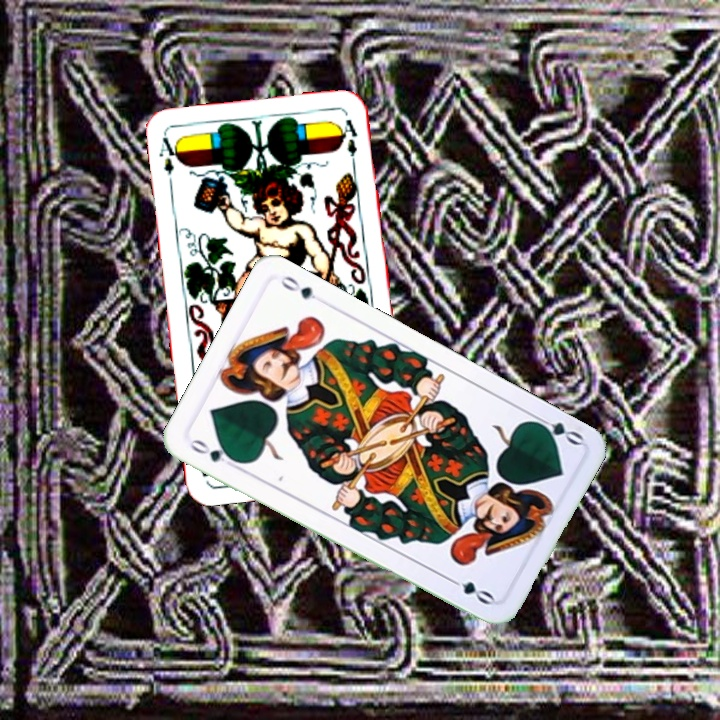EA: (155, 133, 183, 192)
GO: (527, 410, 586, 448), (185, 435, 242, 471)
